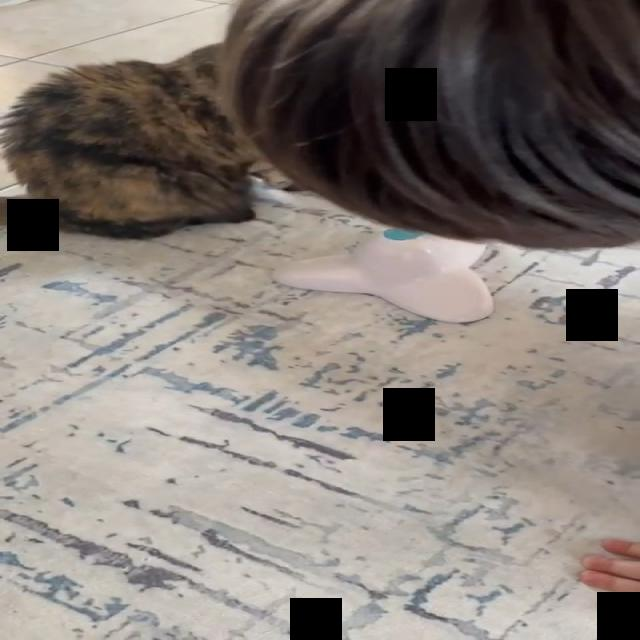authorized: (0, 41, 263, 239)
